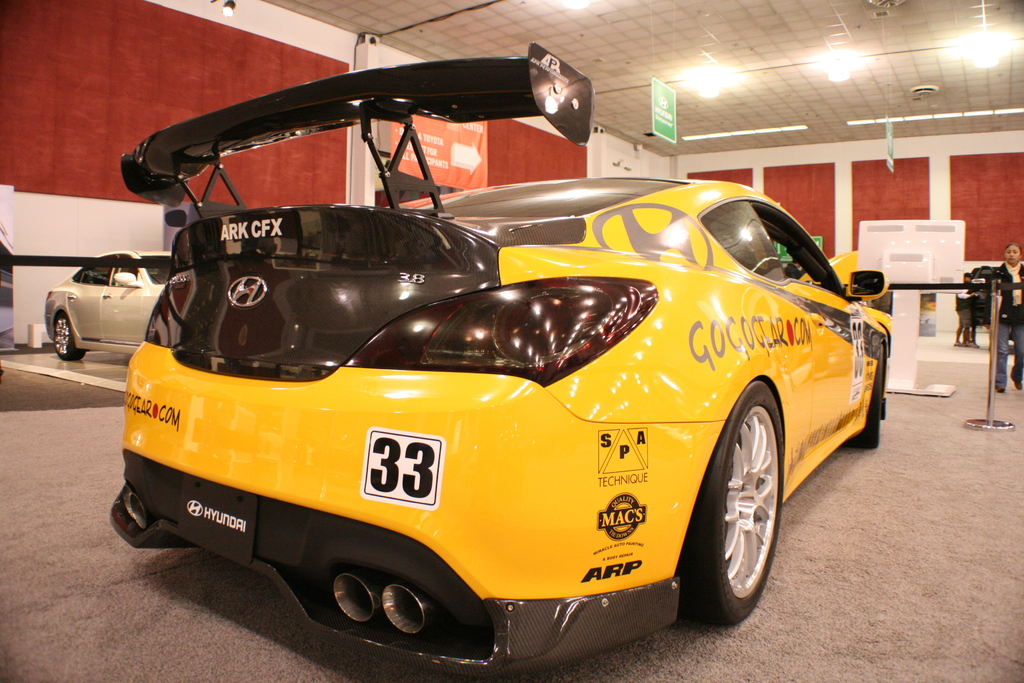Car: (110, 112, 878, 649), (40, 251, 175, 358)
